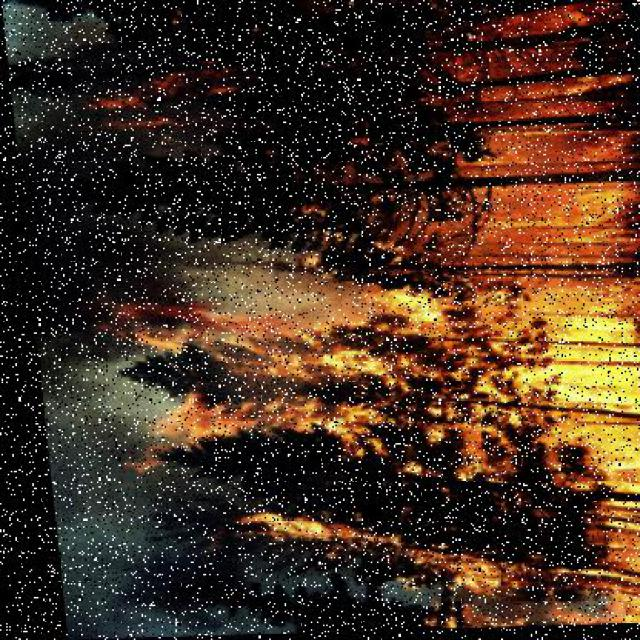fire: (98, 73, 639, 638)
